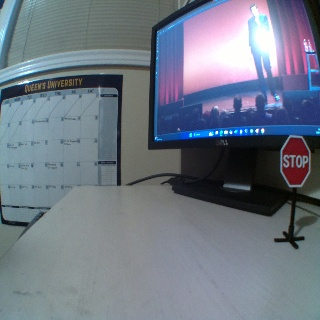sign_stop: (282, 136, 308, 187)
